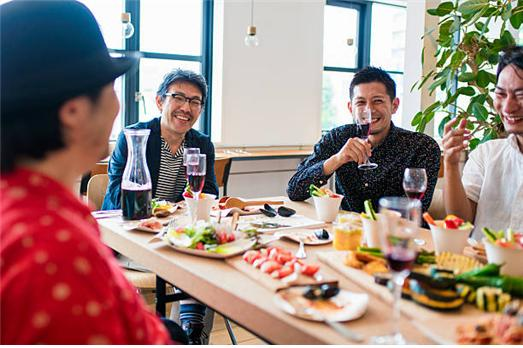alcohol: (120, 129, 154, 219), (381, 197, 421, 264), (353, 104, 379, 171), (401, 167, 429, 207), (186, 154, 205, 203)
